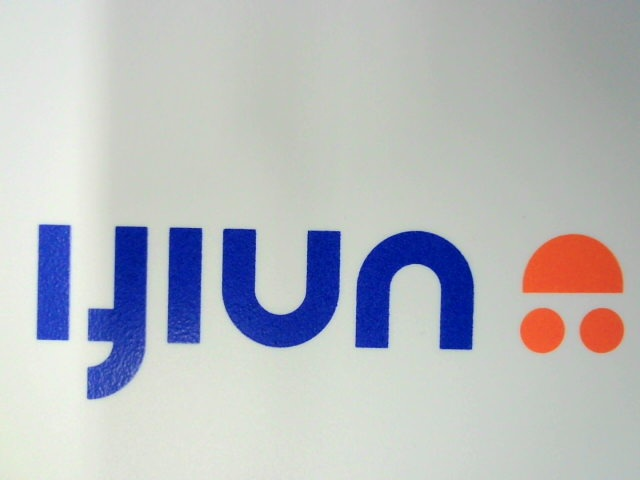BN_unifi: (35, 220, 629, 401)
